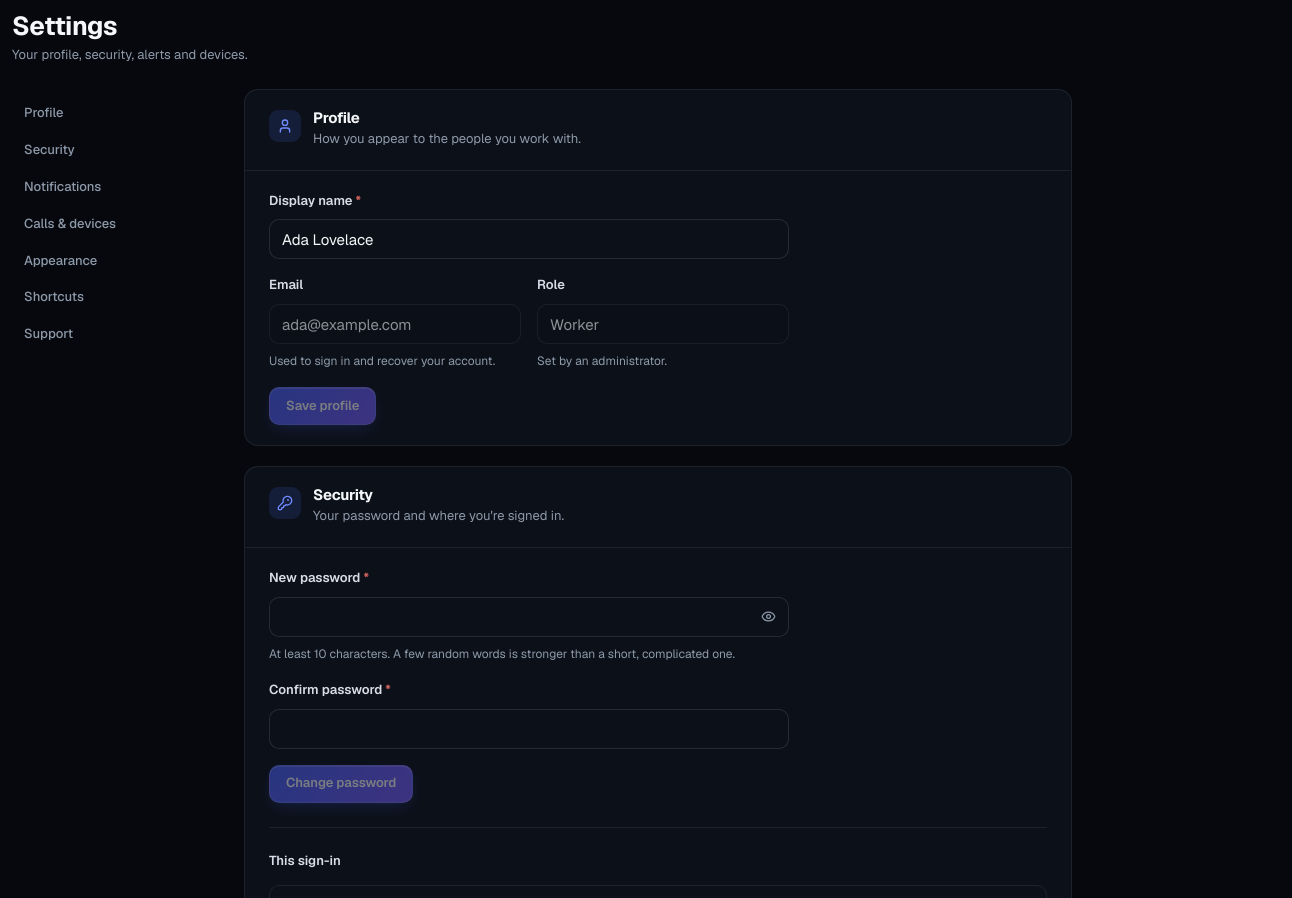
Test: Settings › password › a mismatch blocks submission
Type "correct-Horse-battery-7" into the password field labelled "New password *" at (529, 617), box x1=269 y1=597 x2=789 y2=637
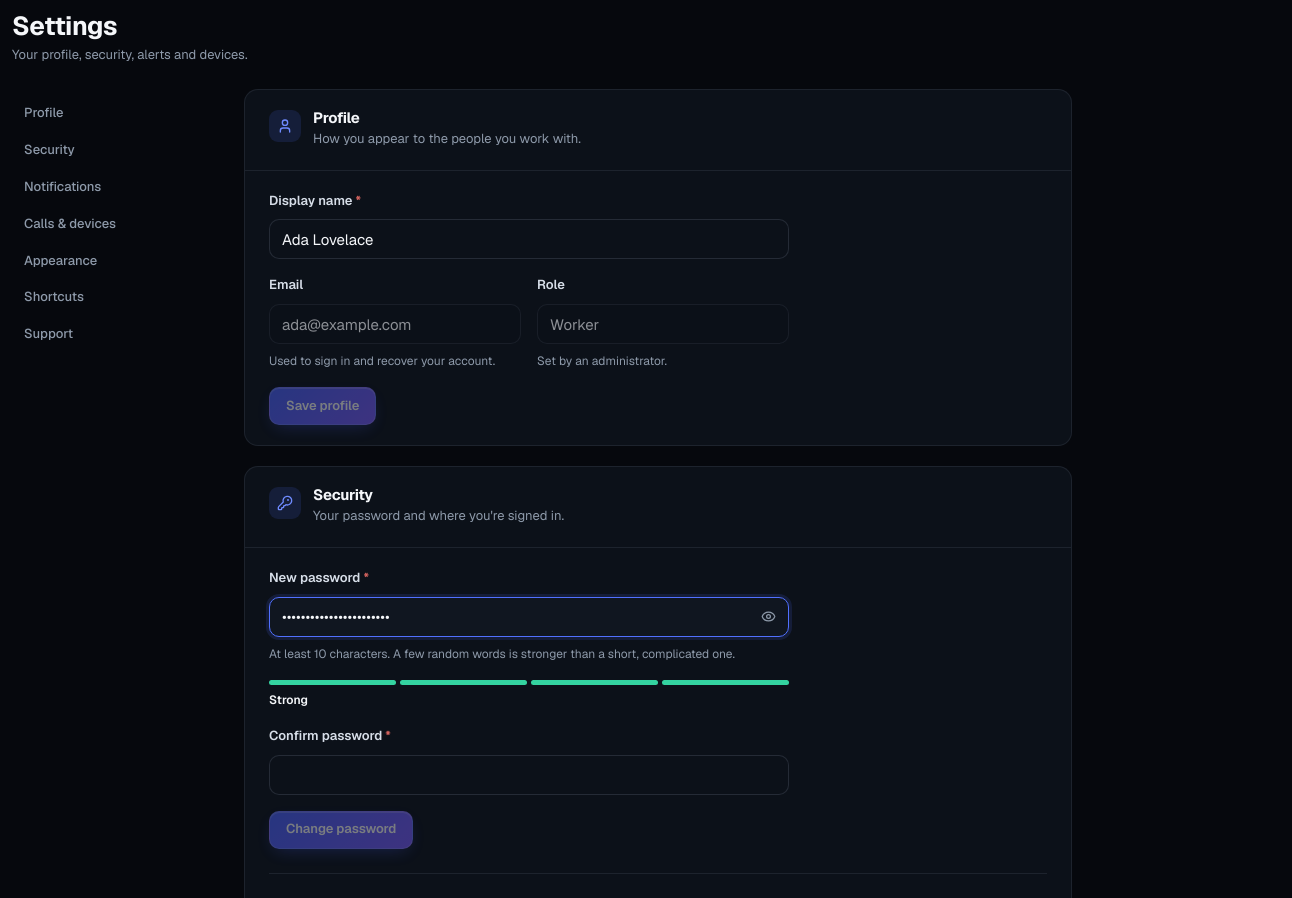
Type "correct-Horse-battery-8" into the password field labelled "Confirm password *" at (529, 775), box x1=269 y1=755 x2=789 y2=795
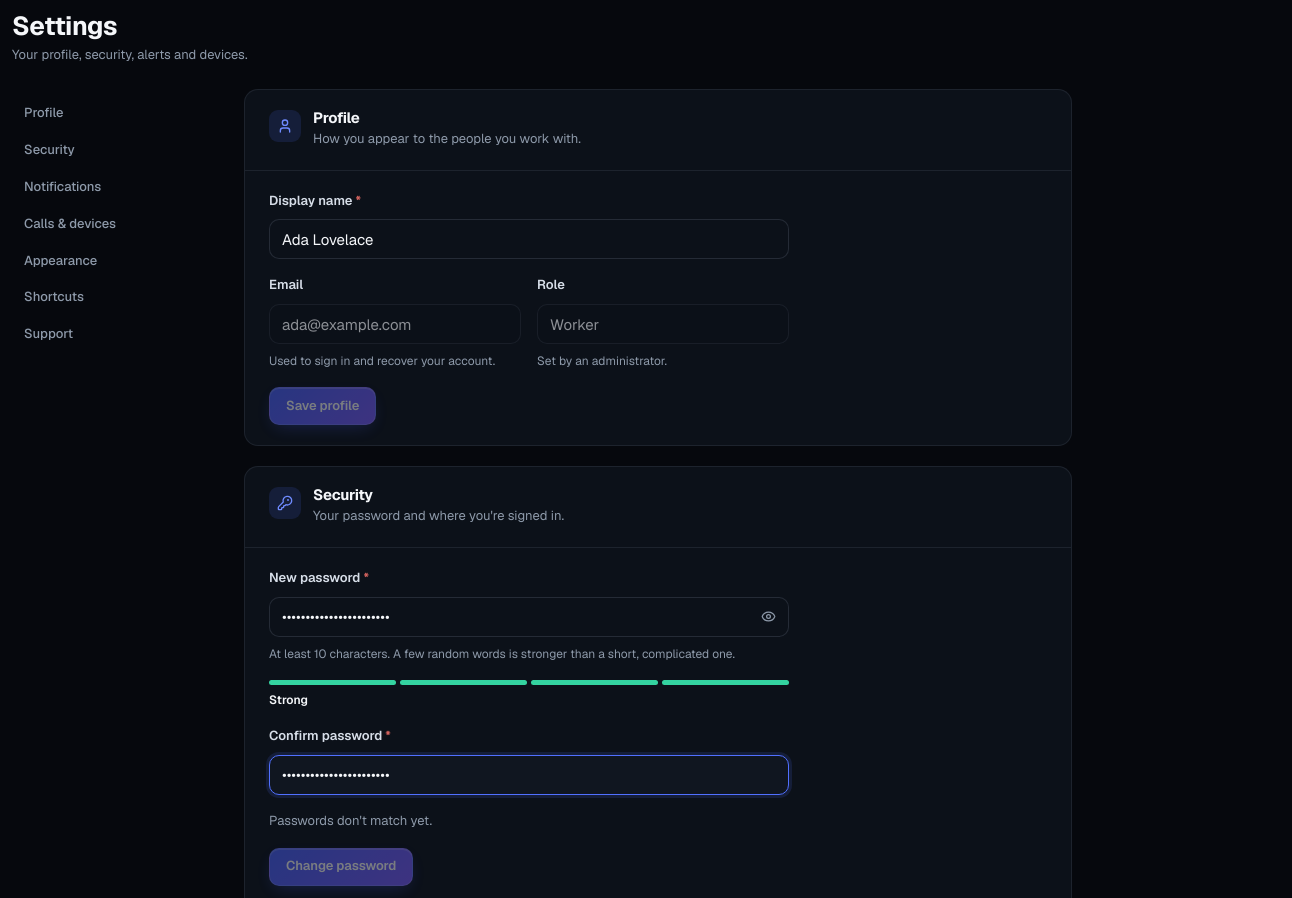
Expected: the button "Change password" is disabled, x1=269 y1=848 x2=413 y2=886
Expected: the text "Passwords don't match yet." is shown, x1=269 y1=812 x2=432 y2=829
